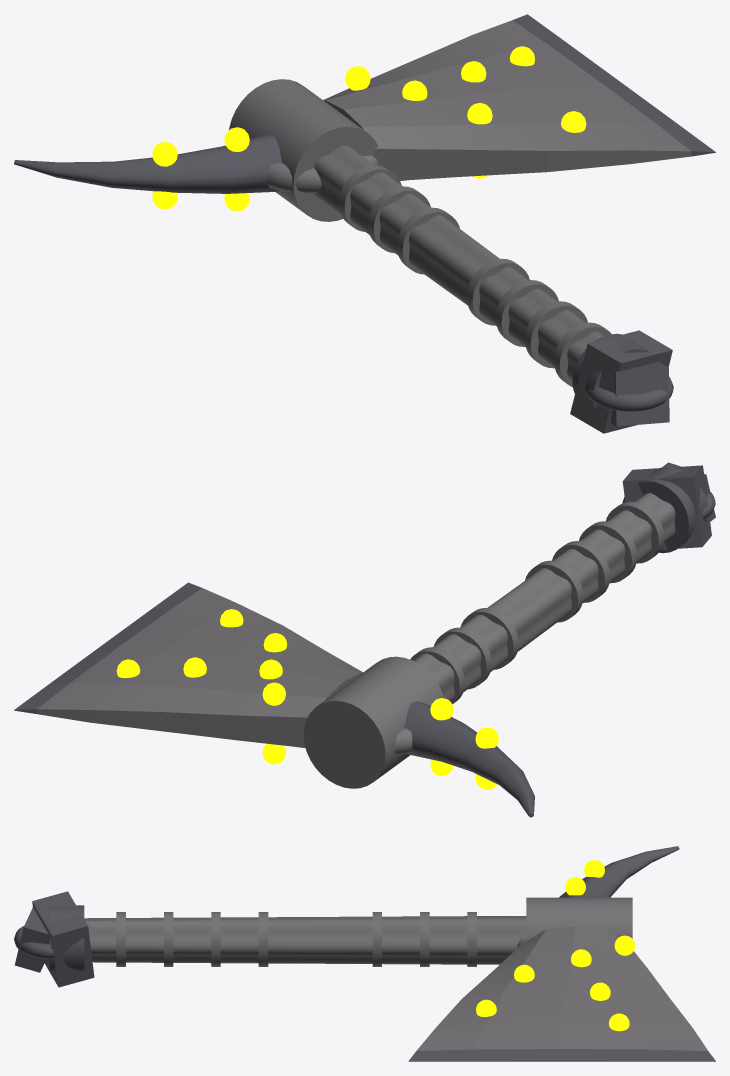
The model's file is art_magma_behemoth.fbx.
3 renders of one model, top to bottom at view 1: azimuth 30°, elevation 25°; view 2: azimuth 150°, elevation 25°; view 3: azimuth 270°, elevation 25°, orthographic. The views are drawn at different scales.
Parts seen in each view (by area): view 1: Blade, Handle, HeadCollar, Pommel, BackSpike, RuneInlay, BladeEdge; view 2: Blade, Handle, HeadCollar, BackSpike, Pommel, RuneInlay, BladeEdge; view 3: Blade, Handle, Pommel, BladeEdge, HeadCollar, RuneInlay, BackSpike.
Part boxes in pixels (x1,y1,x2,y2): Blade: (323, 20, 691, 180); Handle: (314, 145, 611, 387); HeadCollar: (229, 79, 378, 221); Pommel: (570, 330, 673, 433); BackSpike: (14, 134, 282, 193); RuneInlay: (152, 46, 586, 211); BladeEdge: (512, 14, 715, 156); Blade: (37, 588, 362, 748); Handle: (410, 493, 675, 704); HeadCollar: (303, 656, 443, 788); BackSpike: (404, 701, 534, 817); Pommel: (622, 462, 715, 553); RuneInlay: (116, 609, 498, 789); BladeEdge: (14, 582, 201, 713); Blade: (416, 926, 707, 1050); Handle: (84, 912, 526, 966); Pommel: (14, 891, 94, 987); BladeEdge: (408, 1049, 715, 1061); HeadCollar: (517, 897, 632, 947); RuneInlay: (476, 860, 635, 1031); BackSpike: (559, 846, 679, 897).
Bounding box in the file's own units: 267 × 44 × 370.
